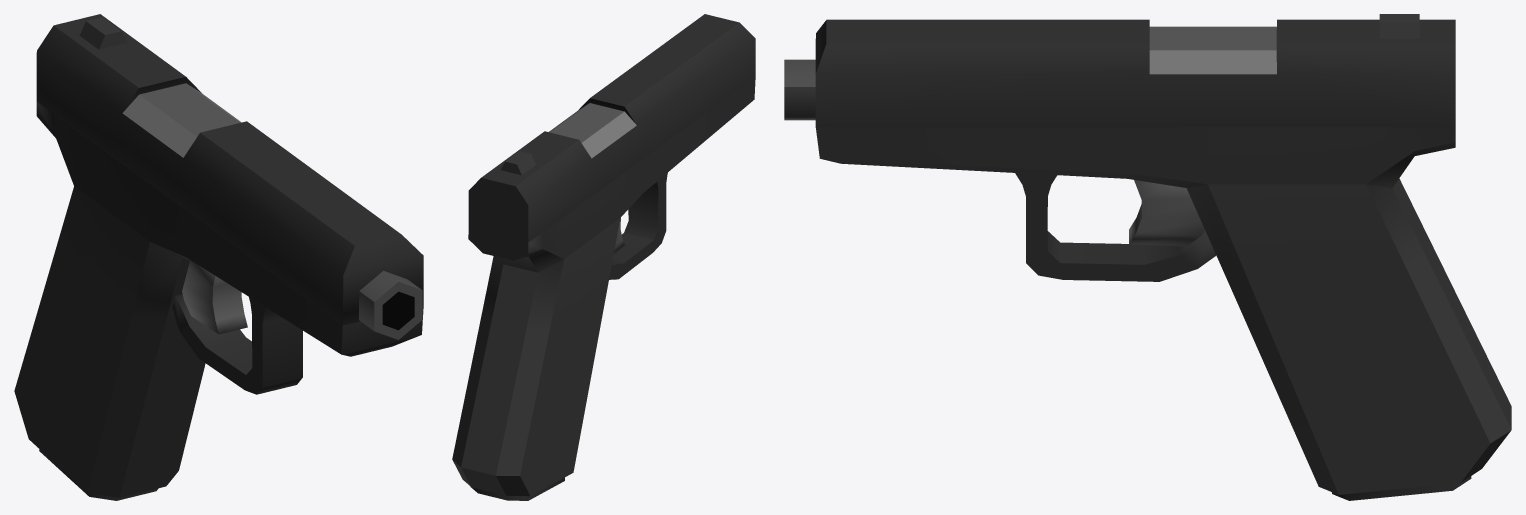
File: enforcer.fbx
3 views of the same model, side by side, from view 1: azimuth 30°, elevation 25°; view 2: azimuth 150°, elevation 25°; view 3: azimuth 270°, elevation 25° (orthographic). The views are drawn at different scales.
Visible parts, largest first — view 1: Enforcer; view 2: Enforcer, Enforcer_Magazine; view 3: Enforcer, Enforcer_Magazine.
Boxes of the visible parts, x1,y1,x2,y2 form: Enforcer: (14,14,423,497); Enforcer: (452,14,755,496); Enforcer_Magazine: (470,477,564,500); Enforcer: (784,14,1511,494); Enforcer_Magazine: (1332,476,1471,500).
Size of the model in its own units: 0.0502 by 0.2329 by 0.3297.
